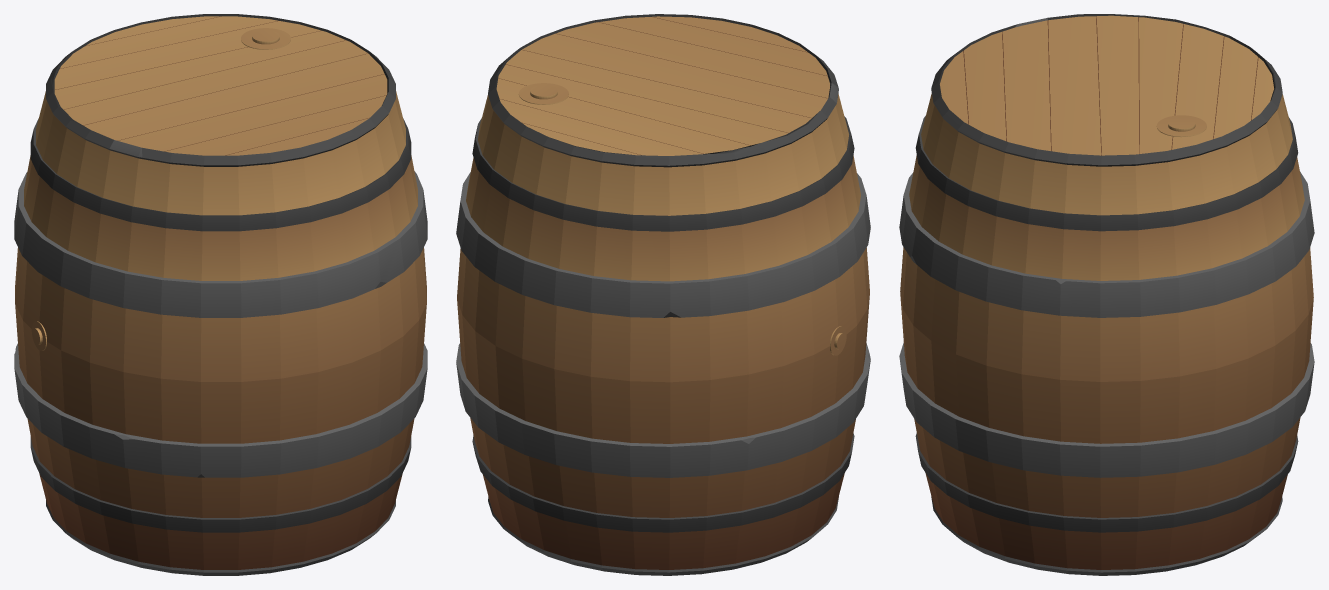
The model's file is Single Large Light Barrel Closed.fbx.
The picture shows the model from 3 angles, left to right: view 1: azimuth 30°, elevation 25°; view 2: azimuth 150°, elevation 25°; view 3: azimuth 270°, elevation 25°; orthographic projection.
Visible parts, largest first — view 1: Single Large Light Barrel Closed; view 2: Single Large Light Barrel Closed; view 3: Single Large Light Barrel Closed.
Boxes of the visible parts, bbox=[...] form: Single Large Light Barrel Closed: bbox=[14, 14, 427, 575]; Single Large Light Barrel Closed: bbox=[456, 14, 870, 575]; Single Large Light Barrel Closed: bbox=[899, 14, 1314, 575].
Size of the model in its own units: 424 by 379 by 381.
Materials: 1 (1 with a texture image).
